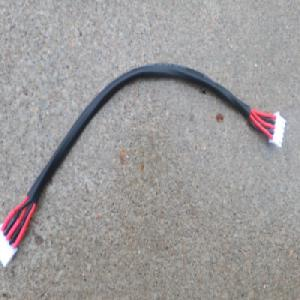Wire: (0, 61, 288, 270)
